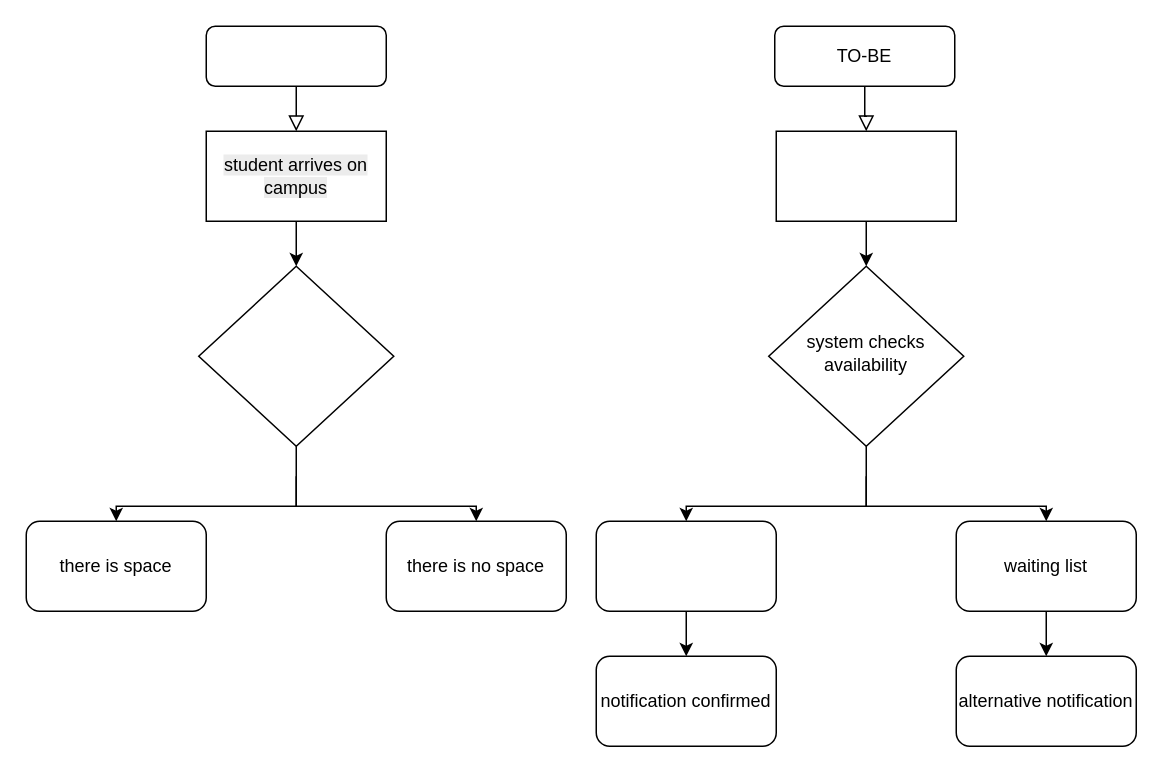
Some shapes in this 1163 by 773 pixel diagram are drawn without their labels. Here are the shapes that lost their labels. From the top down, the centre of each, then its label:
At (x=295, y=55): "AS-IS".
At (x=865, y=175): "Student booking through the app".
At (x=295, y=355): "guard traditionally evaluates".
At (x=685, y=565): "allocate space".
